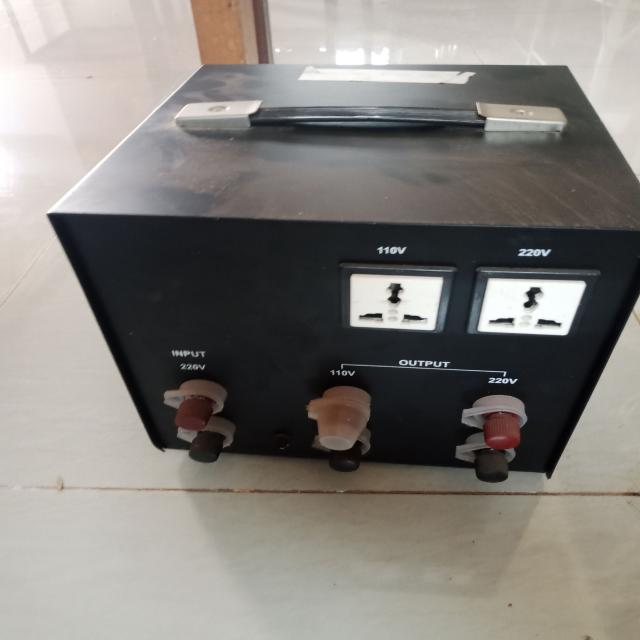AC POWER Stabilizer: (38, 51, 633, 498)
